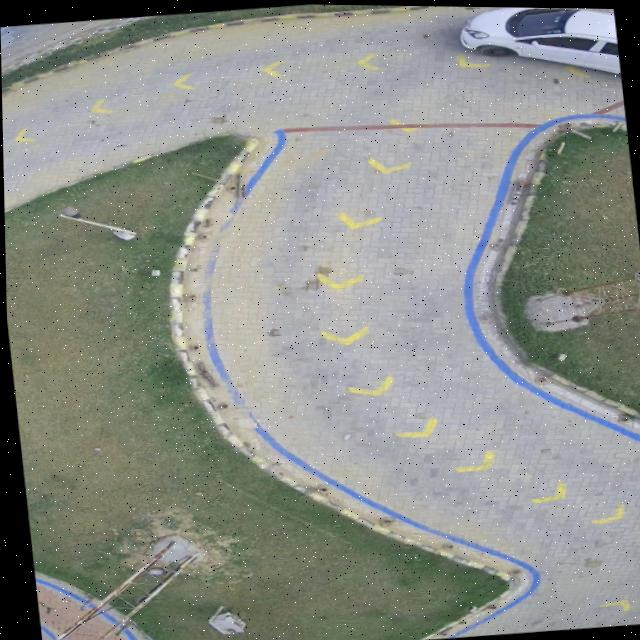car: (458, 6, 620, 72)
